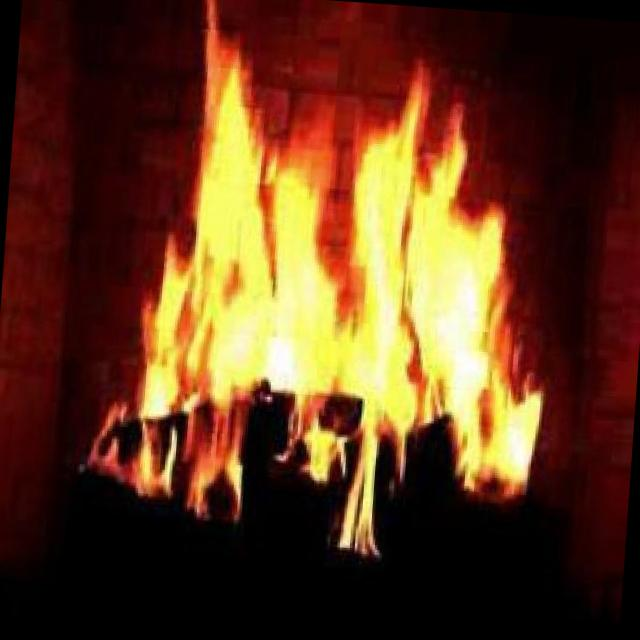Fire: (71, 0, 574, 585)
